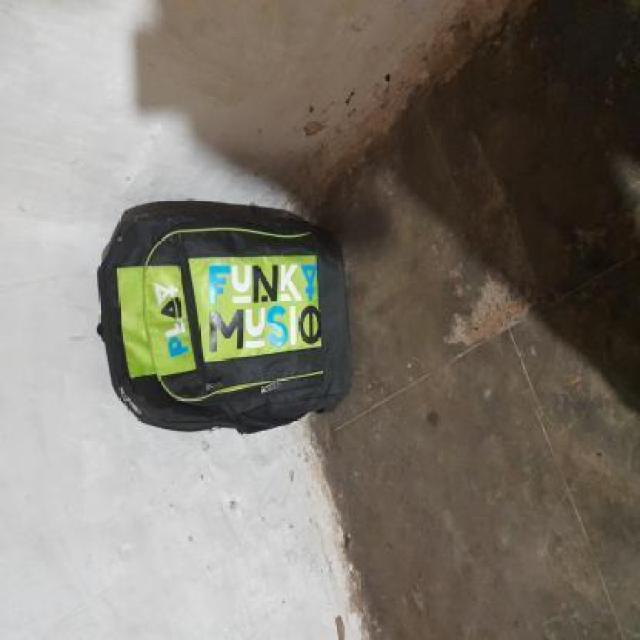backpack: (96, 197, 356, 437)
